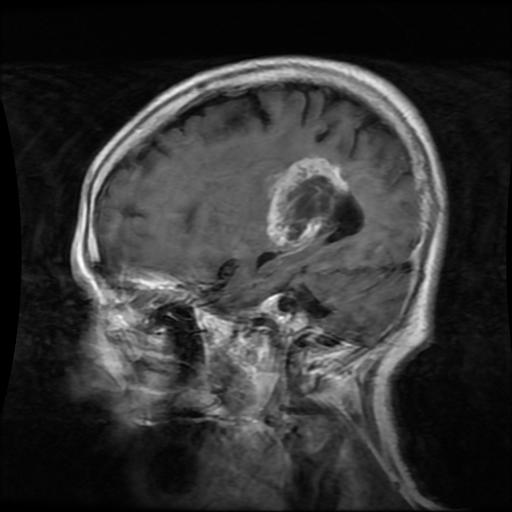Gliomia_tumour: (264, 157, 348, 247)
